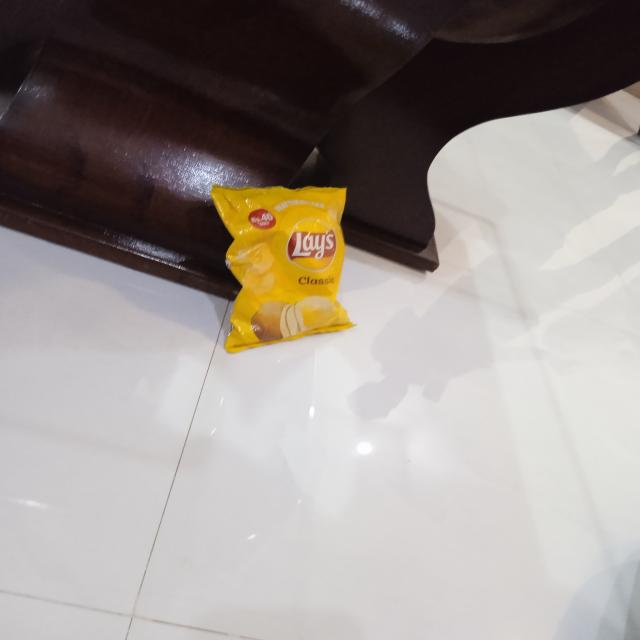Plastic: (210, 182, 356, 351)
